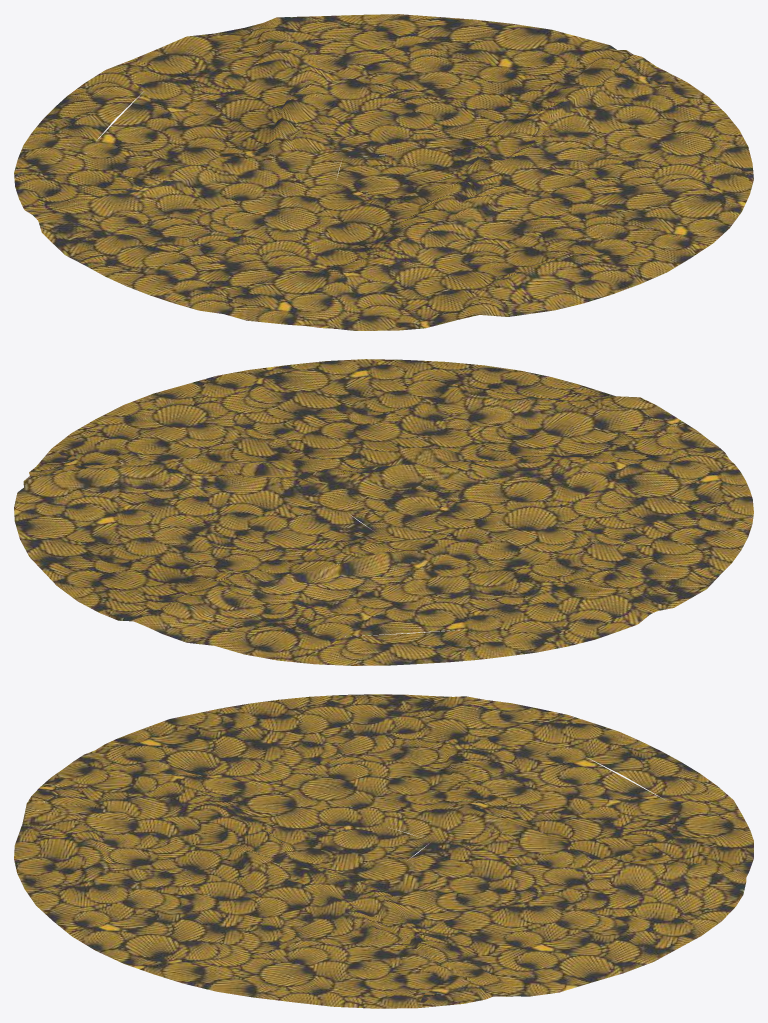
File: Carpet0029.obj
3 views of the same model, one above another, from view 1: azimuth 30°, elevation 25°; view 2: azimuth 150°, elevation 25°; view 3: azimuth 270°, elevation 25° (orthographic).
Bounding box in the file's own units: 2.11 × 0.045 × 2.09.
Materials: 1 (1 with a texture image).
